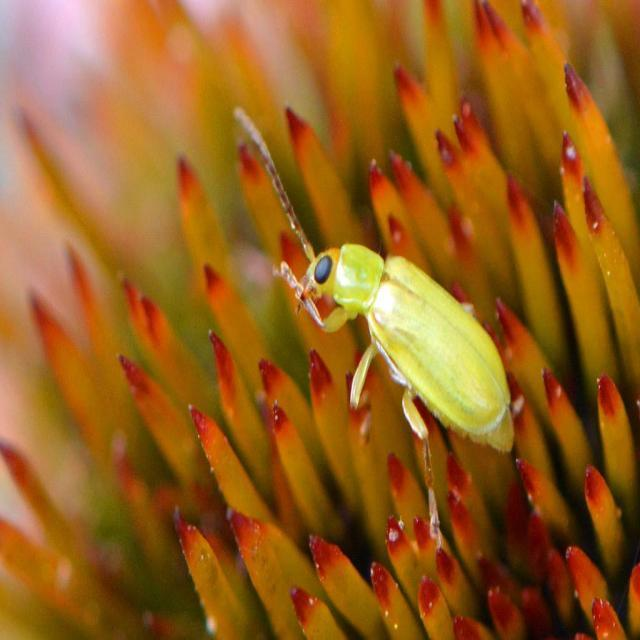gusano_gris: (234, 104, 517, 555)
